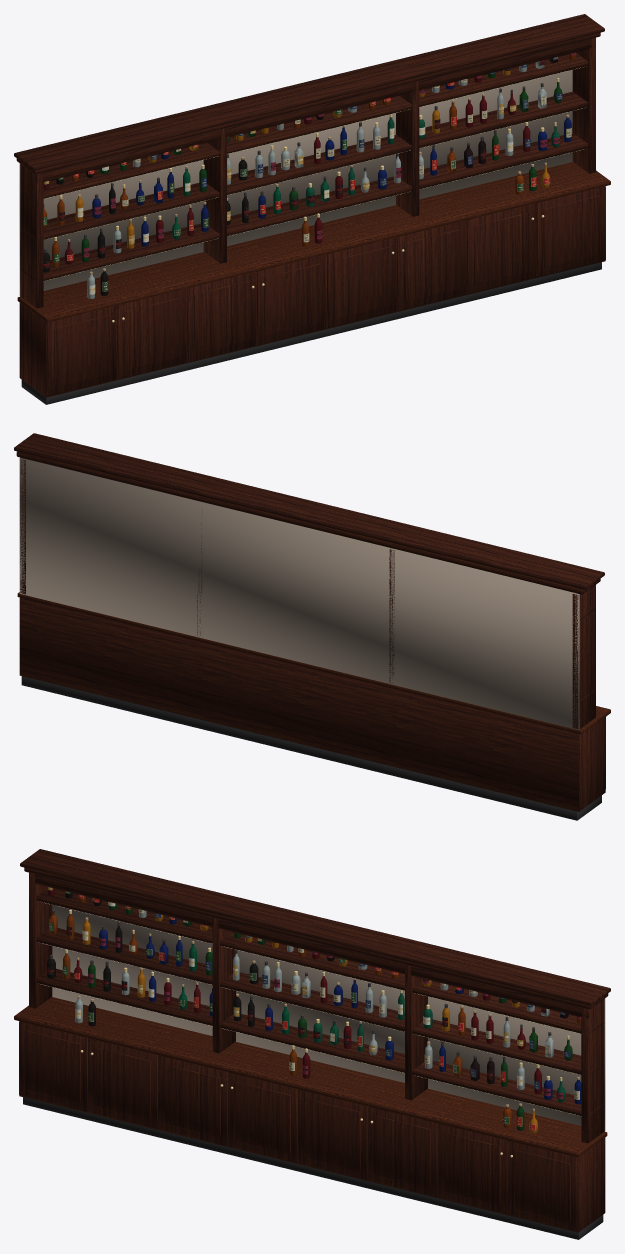
File: back_bar.glb
3 renders of one model, top to bottom at view 1: azimuth 30°, elevation 25°; view 2: azimuth 150°, elevation 25°; view 3: azimuth 330°, elevation 25°, orthographic.
Visible parts, largest first — view 1: Back bar oak, Mirror, Cabinet top, Bottle glass, Bottle labels, Toe kick; view 2: Mirror, Back bar oak, Toe kick, Cabinet top; view 3: Back bar oak, Mirror, Cabinet top, Bottle glass, Bottle labels, Toe kick.
Part boxes in pixels (x1,y1,x2,y2): Back bar oak: (14,14,605,397); Mirror: (19,70,572,296); Cabinet top: (17,162,610,322); Bottle glass: (43,53,575,298); Bottle labels: (43,52,576,294); Toe kick: (21,262,601,404); Mirror: (19,457,579,730); Back bar oak: (14,433,605,811); Toe kick: (21,676,601,820); Cabinet top: (17,592,610,734); Back bar oak: (19,849,610,1232); Mirror: (52,905,605,1131); Cabinet top: (14,997,607,1157); Bottle glass: (47,888,581,1133); Bottle labels: (47,887,581,1130); Toe kick: (23,1097,603,1239).
Bounding box in the file's own units: 6.54 × 2.58 × 0.59.
11 materials, 4 textured.
